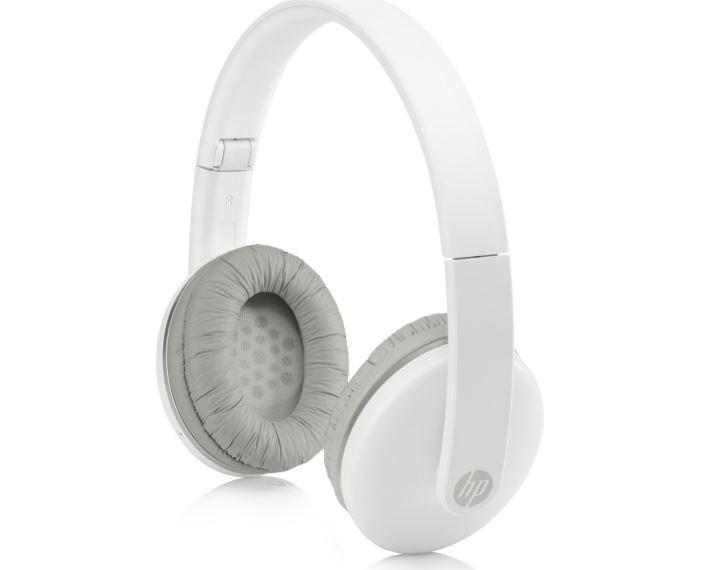Headphone: (156, 5, 562, 562)
